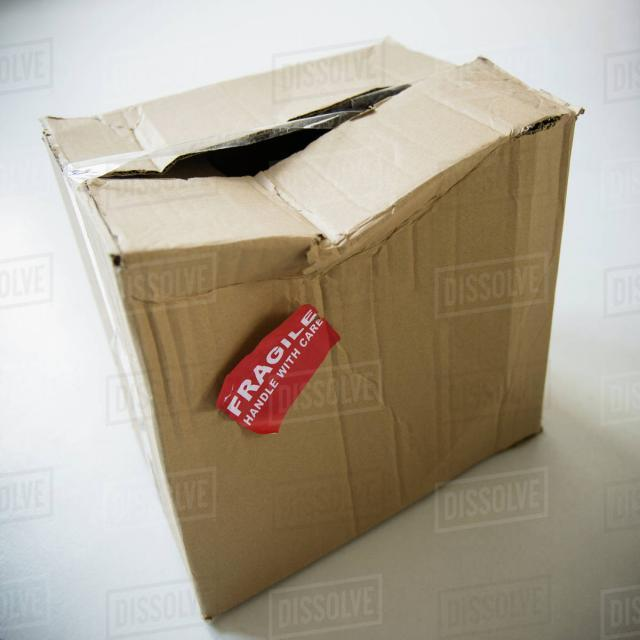hole: (90, 86, 425, 179), (510, 113, 570, 143)
